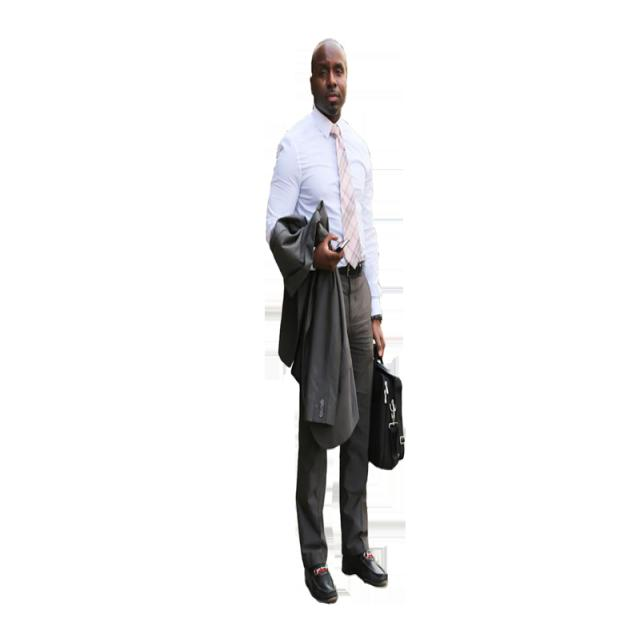jovem: (268, 31, 399, 610)
